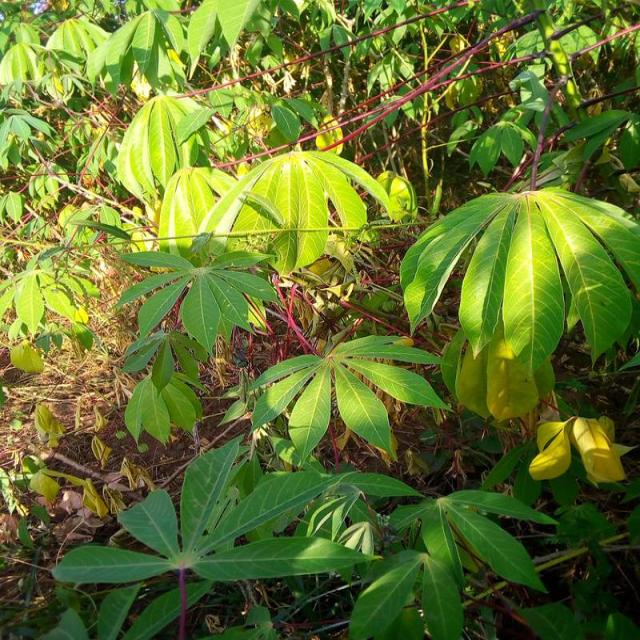cassava leaf: (398, 184, 638, 422), (194, 146, 370, 279)
